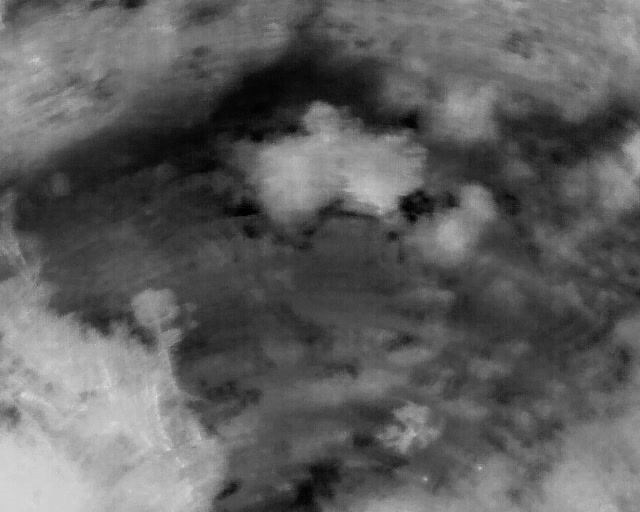car: (450, 84, 509, 220)
person: (530, 365, 557, 384), (514, 383, 536, 404), (566, 388, 587, 406)
